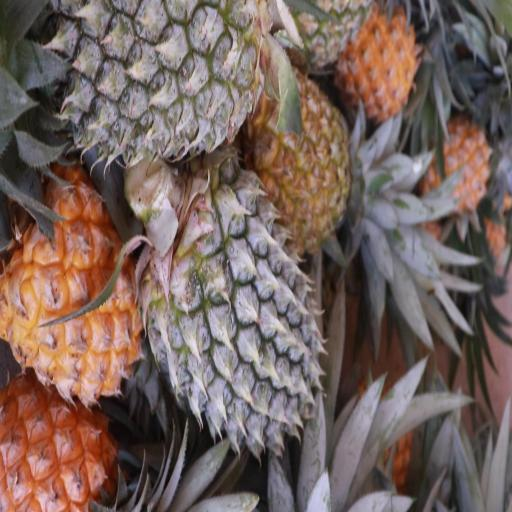------------------------------: (256, 74, 349, 241)
Pineapple - v8 v1: (4, 186, 130, 400), (341, 7, 418, 111), (419, 121, 490, 217)
